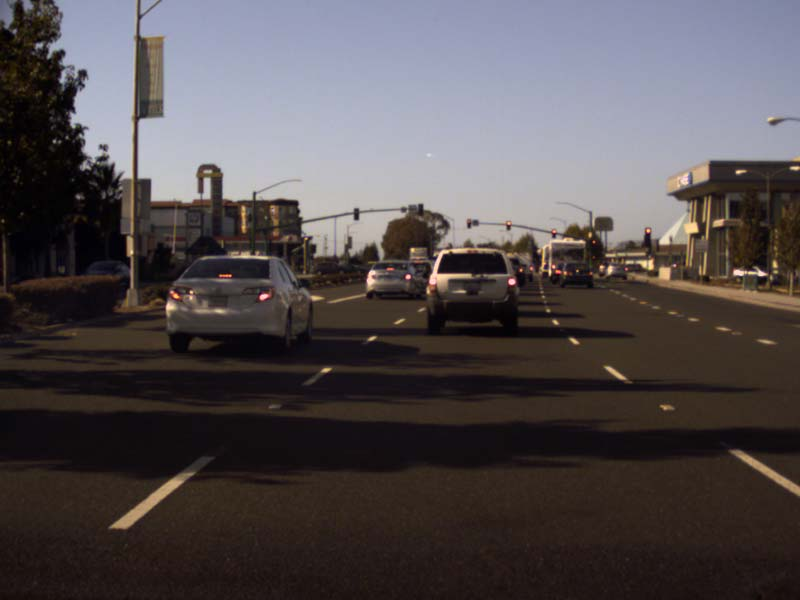Red: (505, 221, 510, 230), (466, 218, 470, 228), (551, 229, 555, 238), (644, 228, 650, 234), (591, 240, 595, 244)
